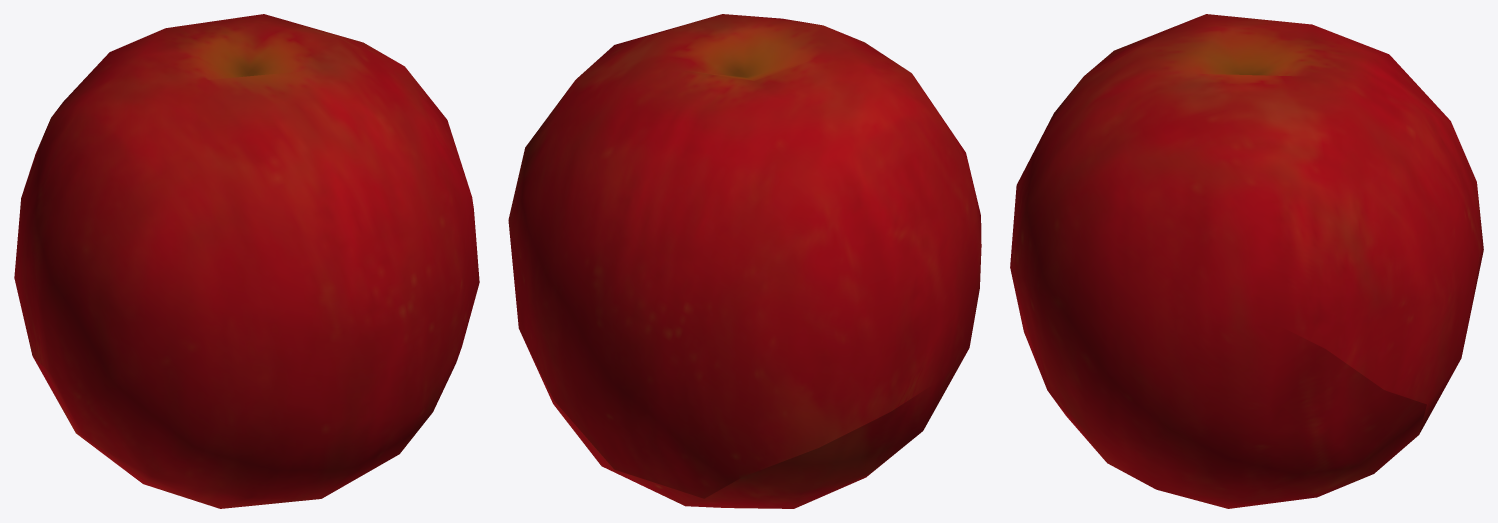
File: SM_Apple_00.fbx
3 renders of one model, left to right at view 1: azimuth 30°, elevation 25°; view 2: azimuth 150°, elevation 25°; view 3: azimuth 270°, elevation 25°, orthographic.
Visible parts, largest first — view 1: SM_Apple_04; view 2: SM_Apple_04; view 3: SM_Apple_04.
Part boxes in pixels (x1,y1,x2,y2): SM_Apple_04: (14, 14, 479, 508); SM_Apple_04: (508, 14, 981, 508); SM_Apple_04: (1010, 14, 1483, 508).
Bounding box in the file's own units: 10.22 × 9.87 × 10.18.
Materials: 1 (1 with a texture image).
